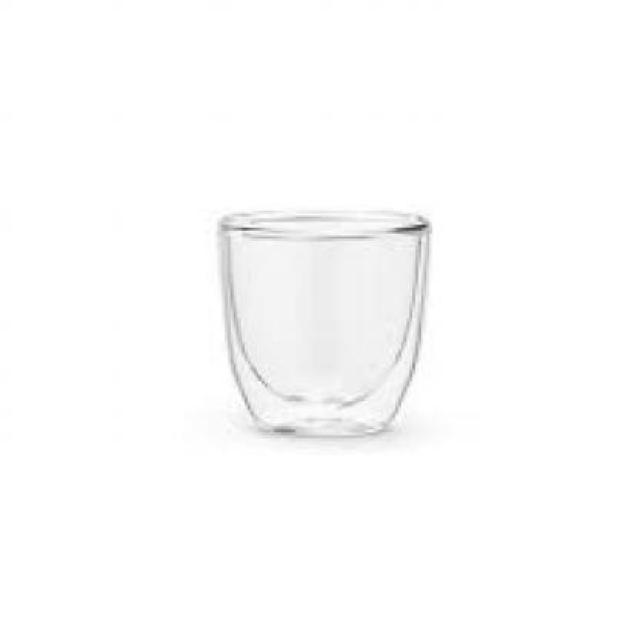kaca: (217, 211, 428, 435)
